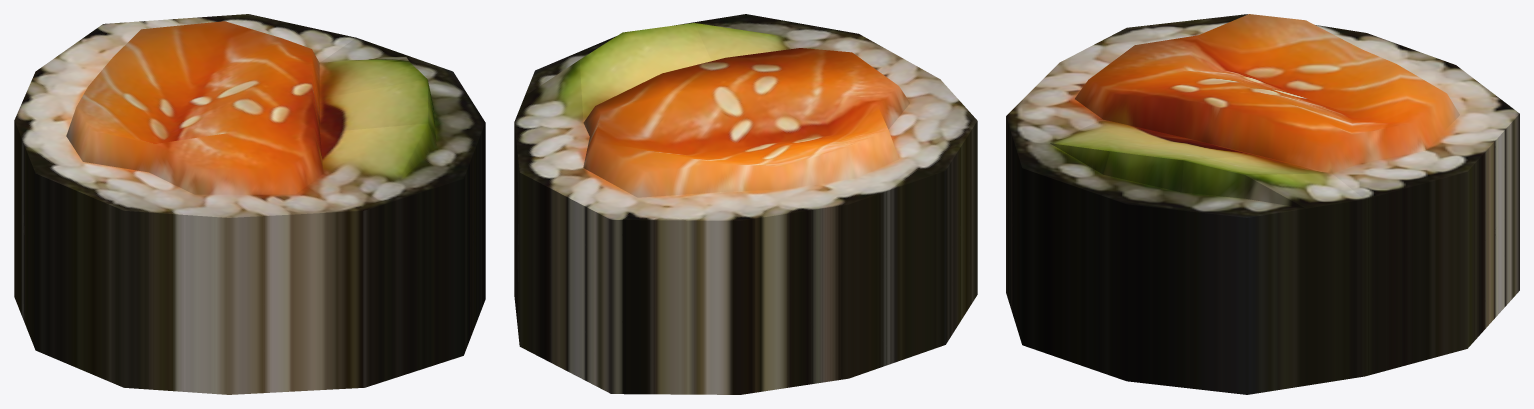
The model's file is sushi1.glb.
3 views of the same model, side by side, from view 1: azimuth 30°, elevation 25°; view 2: azimuth 150°, elevation 25°; view 3: azimuth 270°, elevation 25° (orthographic).
Visible parts, largest first — view 1: sushi_1; view 2: sushi_1; view 3: sushi_1.
Boxes of the visible parts, x1,y1,x2,y2 form: sushi_1: [14, 14, 485, 394]; sushi_1: [514, 14, 977, 394]; sushi_1: [1006, 14, 1519, 394].
Bounding box in the file's own units: 2 × 0.9676 × 2.13.
Materials: 1 (1 with a texture image).
